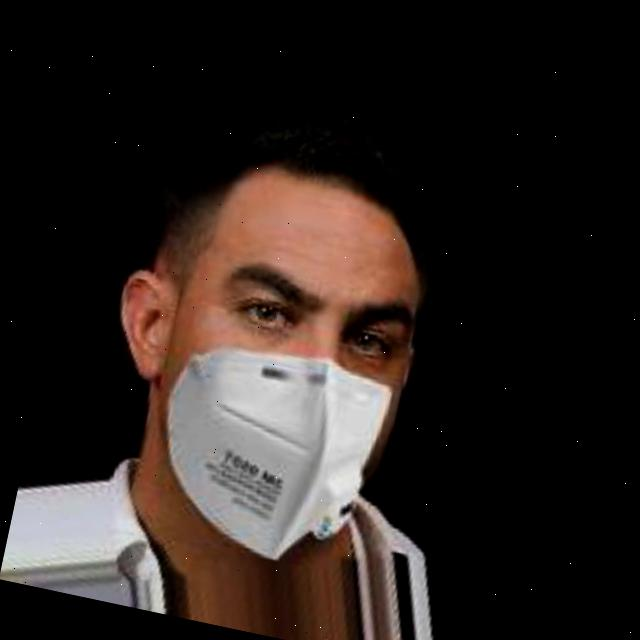suspicion: (78, 74, 488, 550)
